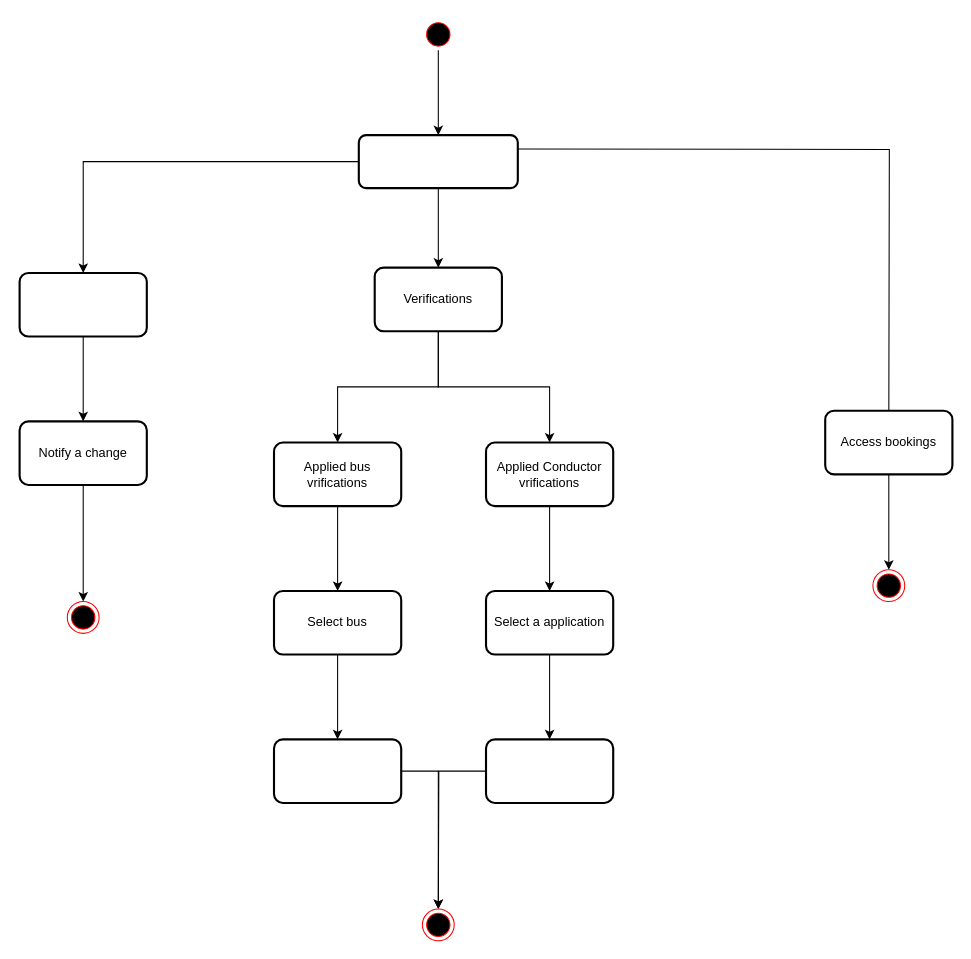
Image size: 971x959. Some labels were removed from this diagram. The centre of each missing label's shape, as x and y in pixels:
"Edit time shedule" belongs at point (82, 304).
"Login" belongs at point (437, 161).
"verify bus" belongs at point (337, 770).
"Verify conductor" belongs at point (549, 770).
